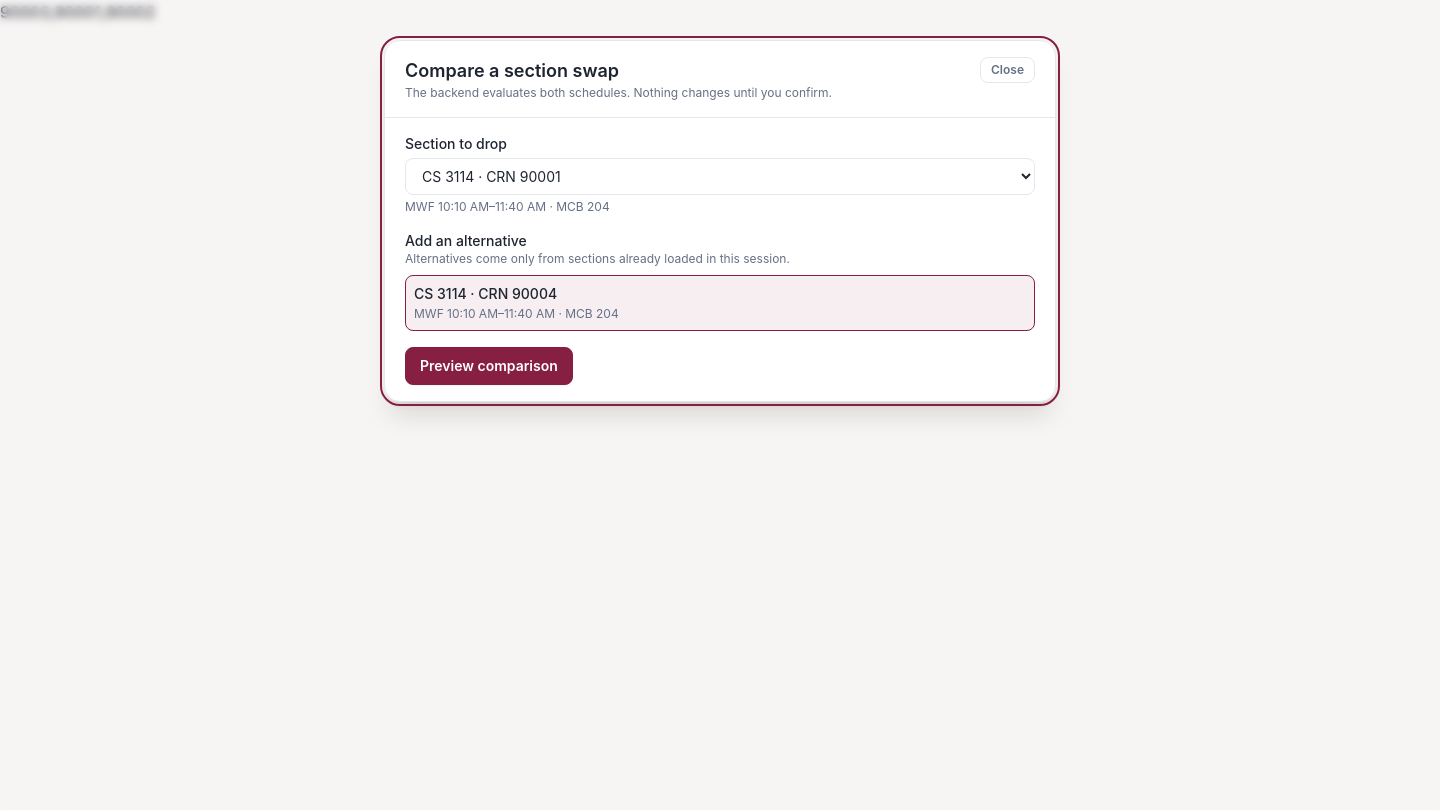
Scenario: SwapWorkbench › renders every backend conflict and cannot apply an invalid swap
Click the button with test id "swap-preview" at (489,366), box [405,347,573,385]
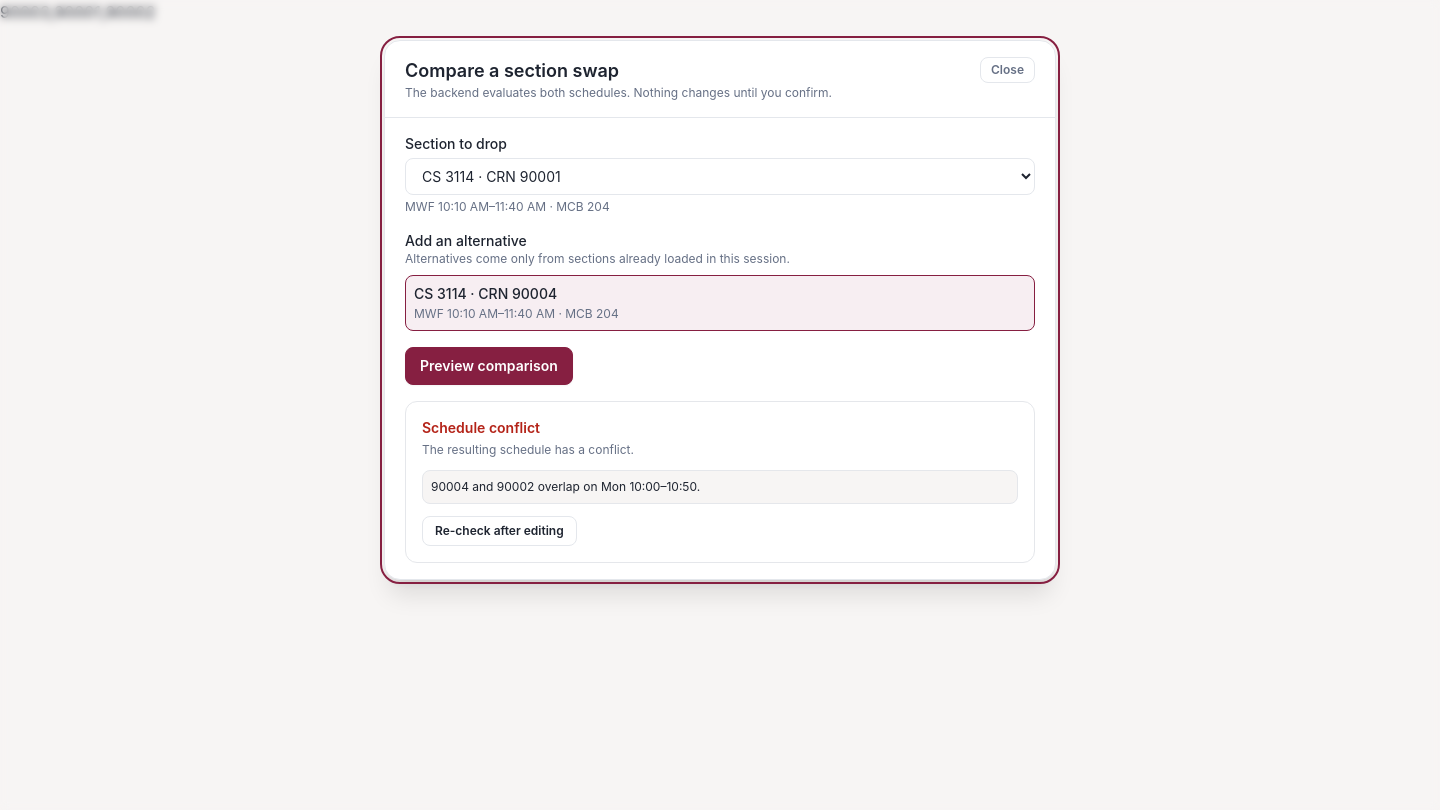
Expected: the list item "90004 and 90002 overlap on Mon 10:00–10:50." is shown, [422,470,1018,504]
